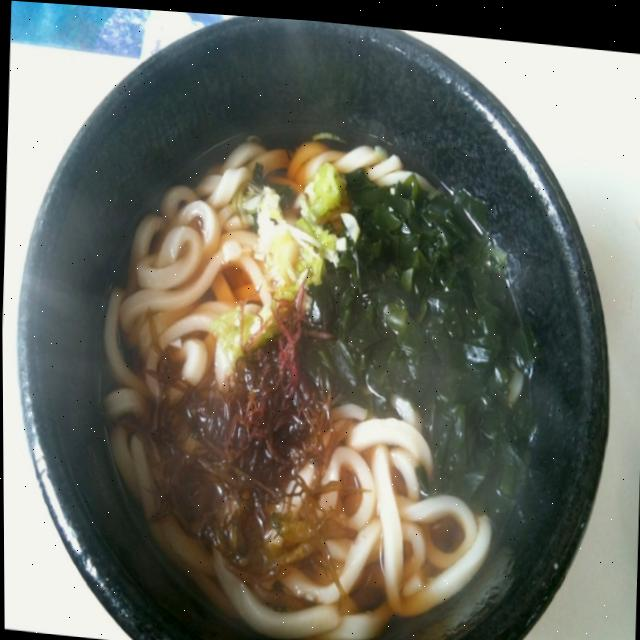面条主食: (53, 6, 612, 640)
